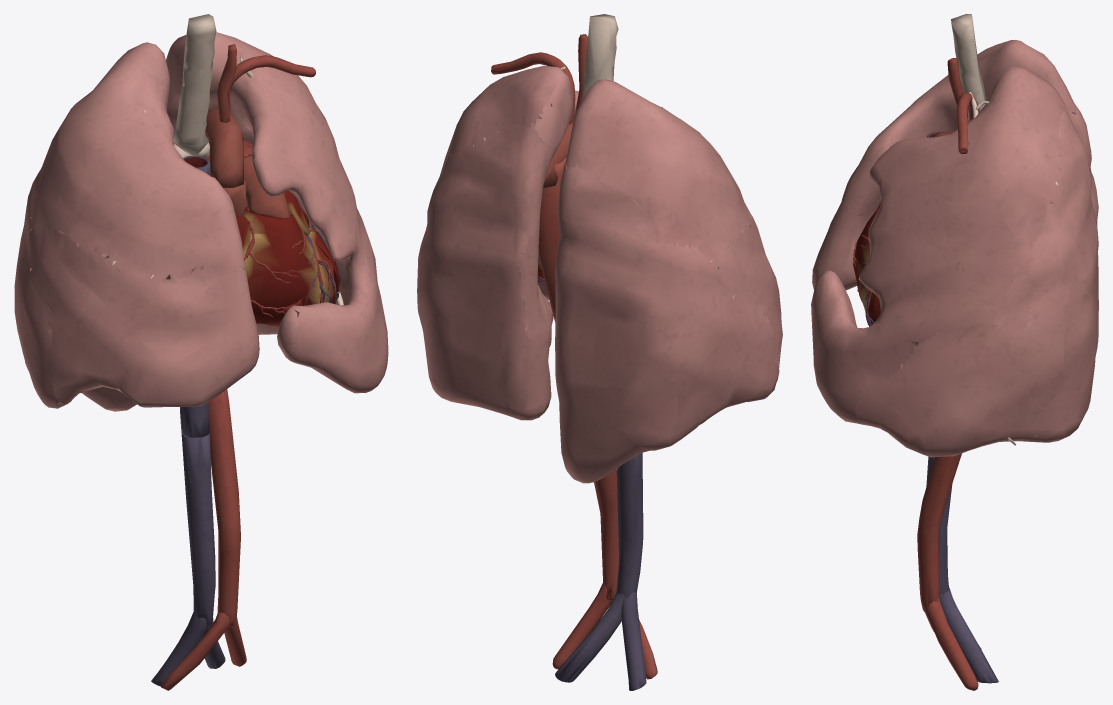
The model's file is tour-blood.6d57cae5.glb.
3 views of the same model, side by side, from view 1: azimuth 30°, elevation 25°; view 2: azimuth 150°, elevation 25°; view 3: azimuth 270°, elevation 25° (orthographic).
Visible parts, largest first — view 1: Lung_Right_UpperLobe, Lung_Right_MiddleLobe, Lung_Left_UpperLobe, Heart_Wall_RightVentricle, Vessel_InferiorVenaCava, Lung_Right_LowerLobe, Vessel_AbdominalAorta, Airway_Trachea, Aorta_Arch, Vessel_CommonIliacArtery_Right, PulmonaryTrunk, Vessel_CommonIliacVein_Right (+4 smaller); view 2: Lung_Right_LowerLobe, Lung_Left_LowerLobe, Lung_Right_UpperLobe, Lung_Left_UpperLobe, Lung_Right_MiddleLobe, Vessel_InferiorVenaCava, Vessel_AbdominalAorta, Vessel_DescendingThoracicAorta, Airway_Trachea, Vessel_CommonIliacVein_Left, Vessel_CommonIliacVein_Right, Vessel_CommonIliacArtery_Left (+2 smaller); view 3: Lung_Left_UpperLobe, Lung_Left_LowerLobe, Lung_Right_UpperLobe, Vessel_AbdominalAorta, Lung_Right_MiddleLobe, Airway_Trachea, Vessel_CommonIliacVein_Left, Vessel_CommonIliacArtery_Left, Heart_Wall_RightVentricle, Vessel_InferiorVenaCava, Lung_Right_LowerLobe, Vessel_SubclavianArtery_Left (+1 smaller).
Part boxes in pixels (x1,y1,x2,y2): Lung_Right_UpperLobe: (31,42,245,278); Lung_Right_MiddleLobe: (28,223,299,407); Lung_Left_UpperLobe: (171,32,387,393); Heart_Wall_RightVentricle: (242,206,335,323); Vessel_InferiorVenaCava: (180,401,215,625); Lung_Right_LowerLobe: (14,173,136,411); Vessel_AbdominalAorta: (208,389,240,627); Airway_Trachea: (173,14,216,155); Aorta_Arch: (205,109,243,187); Vessel_CommonIliacArtery_Right: (161,612,229,690); PulmonaryTrunk: (244,154,290,218); Vessel_CommonIliacVein_Right: (151,611,207,686); Lung_Right_LowerLobe: (515,163,779,483); Lung_Left_LowerLobe: (417,123,559,420); Lung_Right_UpperLobe: (534,79,752,266); Lung_Left_UpperLobe: (440,65,578,299); Lung_Right_MiddleLobe: (716,215,782,368); Vessel_InferiorVenaCava: (616,452,643,598); Vessel_AbdominalAorta: (594,469,618,600); Vessel_DescendingThoracicAorta: (538,158,566,322); Airway_Trachea: (582,14,618,99); Vessel_CommonIliacVein_Left: (555,592,623,682); Vessel_CommonIliacVein_Right: (621,592,646,690); Vessel_CommonIliacArtery_Left: (552,583,611,669); Lung_Left_UpperLobe: (811,65,1066,423); Lung_Left_LowerLobe: (854,103,1098,457); Lung_Right_UpperLobe: (842,40,1075,215); Vessel_AbdominalAorta: (917,453,961,612); Lung_Right_MiddleLobe: (812,200,875,290); Airway_Trachea: (951,14,986,120); Vessel_CommonIliacVein_Left: (939,587,998,683); Vessel_CommonIliacArtery_Left: (924,598,978,690); Heart_Wall_RightVentricle: (853,206,880,324); Vessel_InferiorVenaCava: (926,456,952,594); Lung_Right_LowerLobe: (1070,103,1098,287); Vessel_SubclavianArtery_Left: (957,92,979,154).
Bounding box in the file's own units: 0.2575 × 0.494 × 0.197.
11 materials, 5 textured.
